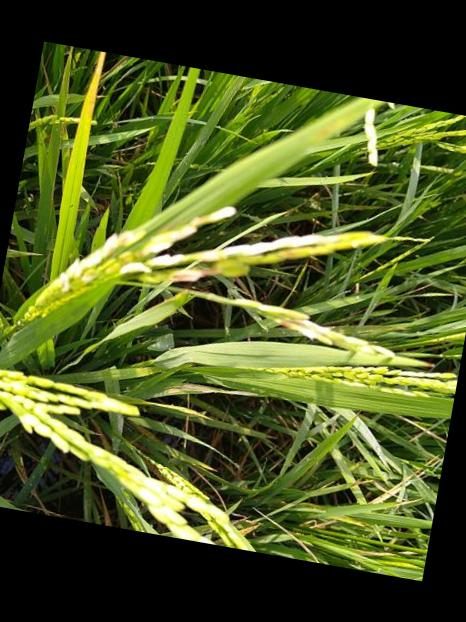Panicle Blight: (98, 253, 149, 275), (152, 266, 219, 281), (268, 316, 309, 331)
